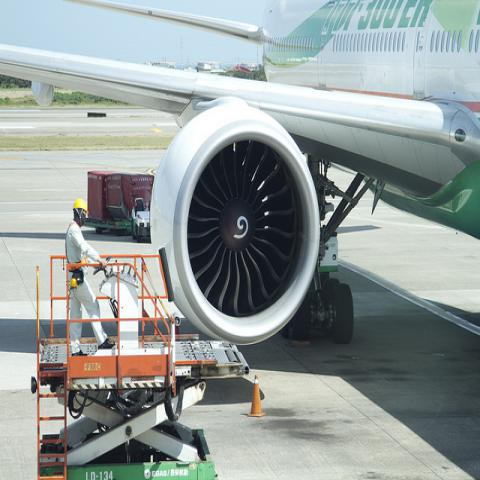truck: (79, 170, 158, 240)
